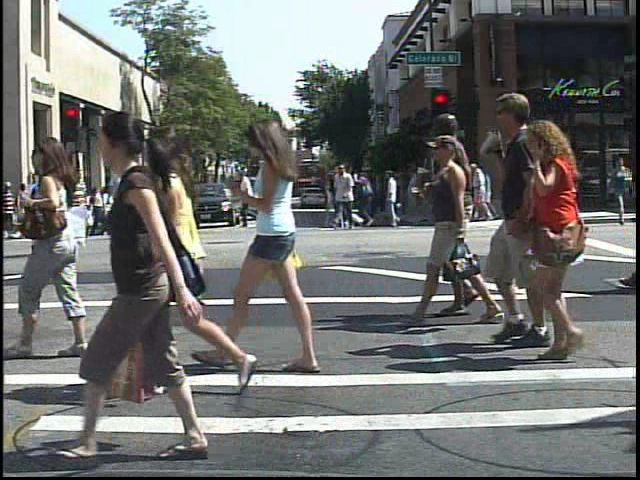person: (71, 99, 221, 467), (138, 119, 267, 398), (225, 110, 336, 377), (452, 82, 558, 352), (6, 129, 105, 364), (523, 118, 610, 364), (108, 161, 142, 242), (63, 163, 93, 242), (468, 158, 498, 230), (24, 168, 50, 242), (4, 174, 20, 241), (97, 179, 117, 224)
